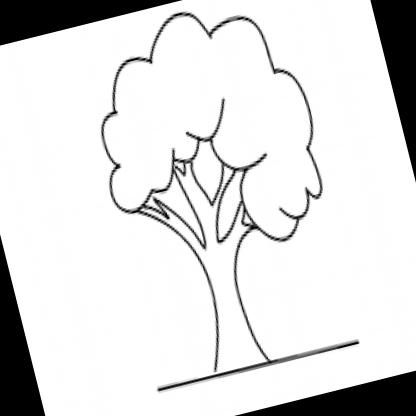branch_sharp: (117, 124, 264, 280)
crown_cloud: (64, 0, 342, 281)
root_none: (194, 338, 284, 396)
trunk_reflex: (202, 270, 258, 346)
